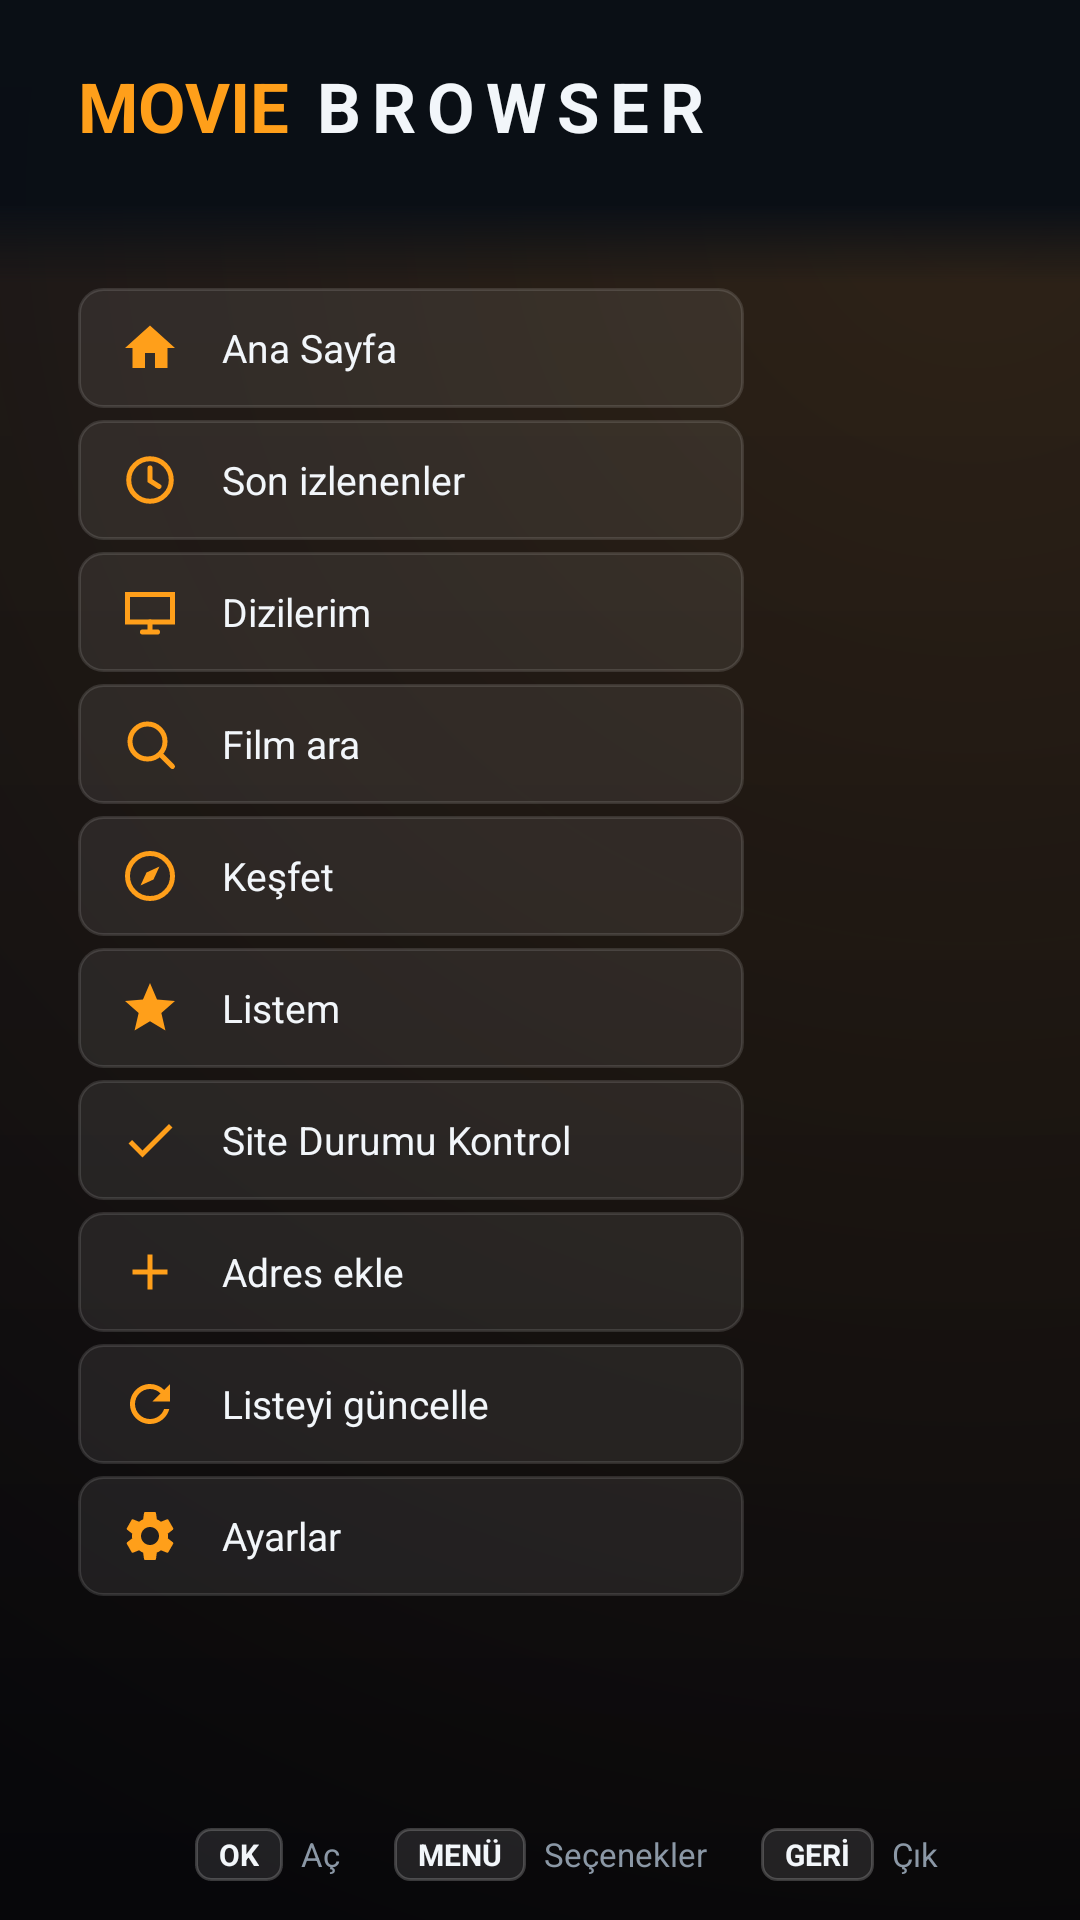

Icons on this 1080×1920 Android screen, each with the point to tap as (x,y):
check: (150,1141)
discover: (150,876)
history: (150,480)
home: (150,346)
plus: (150,1272)
refresh: (150,1404)
search: (151,745)
series: (150,613)
settings: (150,1536)
star: (150,1007)
